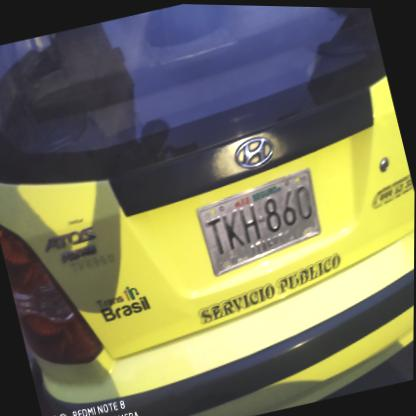placa: (187, 162, 334, 282)
